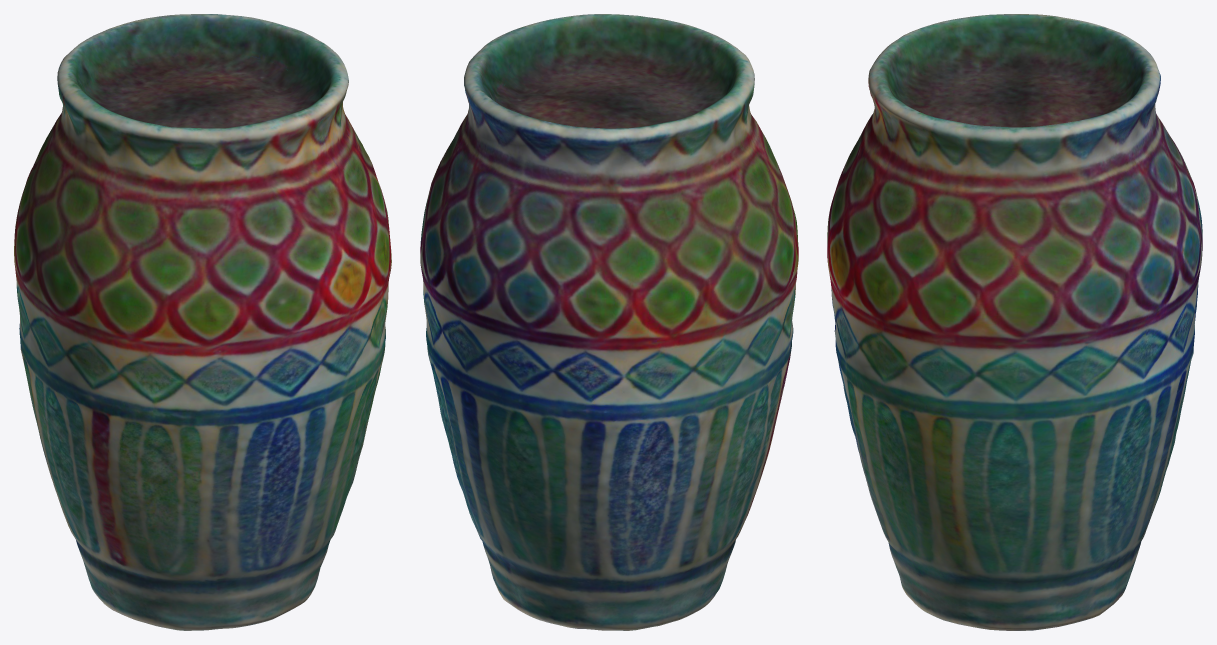
The picture shows the model from 3 angles, left to right: view 1: azimuth 30°, elevation 25°; view 2: azimuth 150°, elevation 25°; view 3: azimuth 270°, elevation 25°; orthographic projection.
Parts seen in each view (by area): view 1: mesh; view 2: mesh; view 3: mesh.
Boxes of the visible parts, x1=… form: mesh: x1=14, y1=14, x2=391, y2=630; mesh: x1=420, y1=14, x2=798, y2=630; mesh: x1=827, y1=14, x2=1202, y2=630.
Bounding box in the file's own units: 0.6565 × 0.999 × 0.6594.
Materials: 1 (1 with a texture image).
